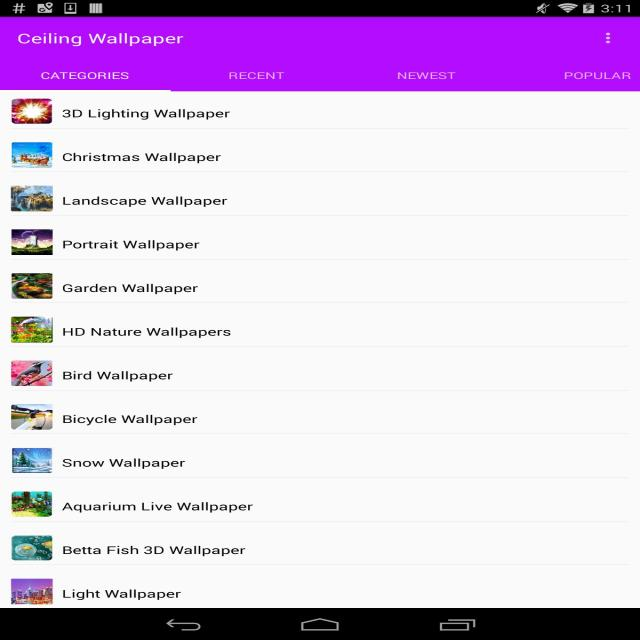button: (5, 134, 636, 170), (5, 178, 634, 214), (7, 354, 631, 390), (7, 309, 634, 344), (8, 265, 632, 300), (8, 398, 627, 433), (6, 442, 624, 477), (5, 92, 638, 126), (5, 223, 634, 257), (7, 485, 626, 519), (7, 531, 624, 565), (7, 575, 625, 606), (180, 66, 342, 90), (2, 66, 168, 89), (368, 64, 494, 90), (530, 63, 640, 91), (597, 27, 619, 47)
heading: (14, 31, 188, 50)
image: (12, 184, 53, 212), (11, 228, 52, 256), (12, 316, 53, 344), (13, 402, 52, 430), (12, 98, 52, 124), (12, 360, 52, 386), (12, 579, 52, 604), (13, 273, 52, 298), (12, 448, 51, 473), (12, 491, 51, 516), (13, 142, 50, 167), (14, 536, 52, 559)
text: (62, 544, 248, 557), (63, 107, 232, 121), (61, 501, 255, 513), (62, 150, 223, 164), (62, 326, 232, 339), (60, 195, 229, 208), (59, 413, 200, 426), (61, 282, 201, 295), (61, 238, 203, 250), (62, 458, 186, 470), (61, 369, 175, 382), (61, 589, 183, 600), (38, 70, 132, 80), (222, 68, 288, 82), (562, 70, 633, 80), (396, 70, 458, 81)
